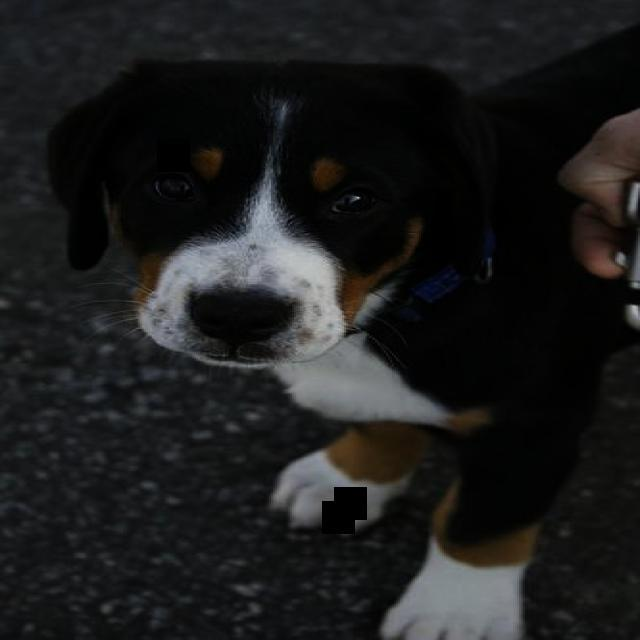puppy-dog: (44, 15, 640, 640)
